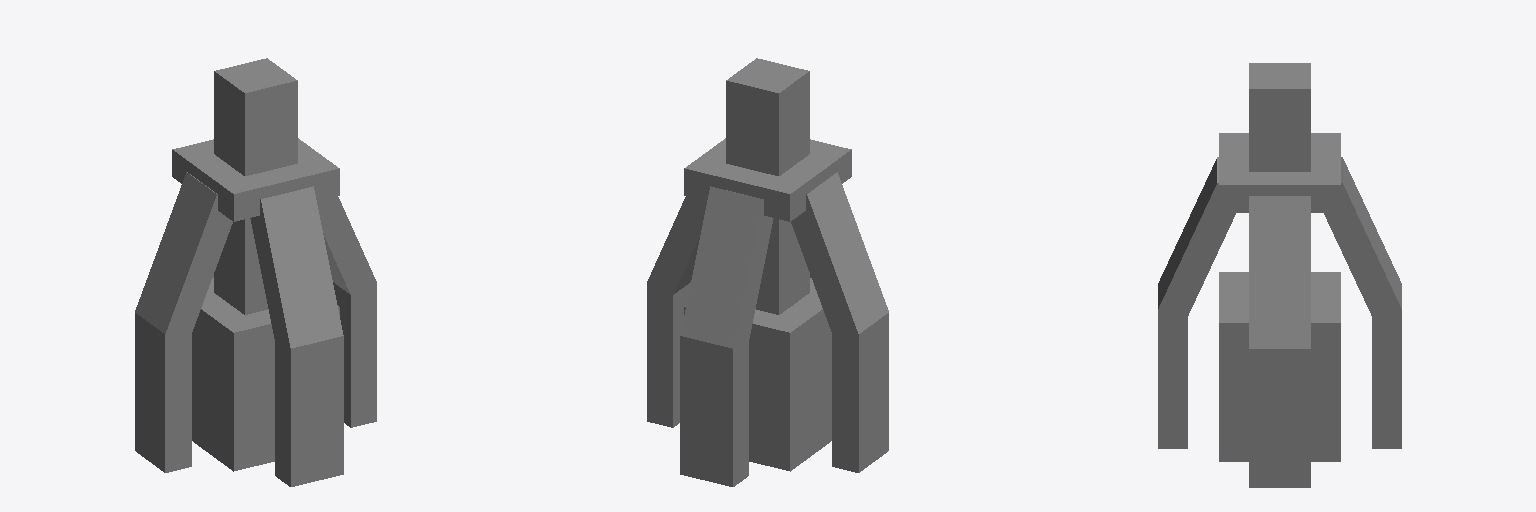
The model's file is missile_head_antimatter.obj.
3 renders of one model, left to right at view 1: azimuth 30°, elevation 25°; view 2: azimuth 150°, elevation 25°; view 3: azimuth 270°, elevation 25°, orthographic.
Visible parts, largest first — view 1: Component_73, group_3, group_5, group_4; view 2: Component_73, group_3, group_5, group_4; view 3: Component_73, group_3, group_5, group_4.
Boxes of the visible parts, x1,y1,x2,y2 form: Component_73: [135, 172, 376, 486]; group_3: [192, 278, 339, 471]; group_5: [214, 58, 297, 314]; group_4: [172, 138, 339, 221]; Component_73: [647, 172, 888, 486]; group_3: [684, 278, 831, 471]; group_5: [726, 58, 809, 314]; group_4: [684, 138, 851, 221]; Component_73: [1158, 157, 1401, 487]; group_3: [1219, 272, 1340, 461]; group_5: [1249, 63, 1310, 171]; group_4: [1219, 133, 1340, 212].
Size of the model in its own units: 50.39 by 81.89 by 50.39.